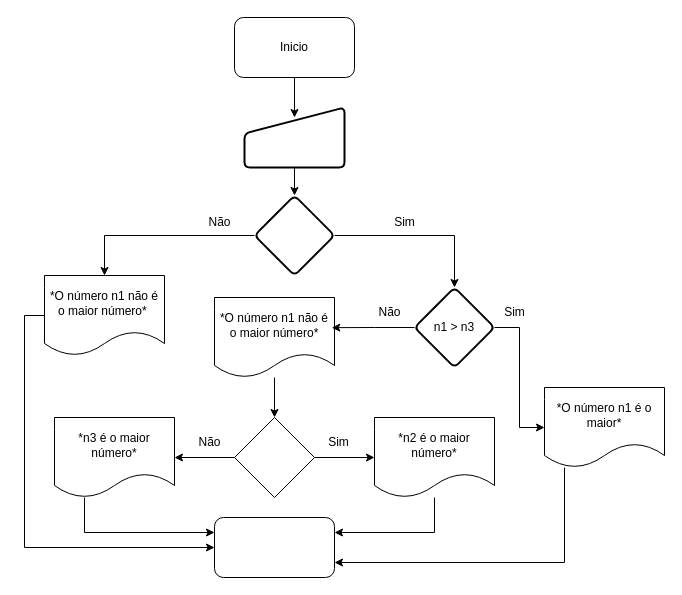
The diagram is 682 pixels wide and 595 high, and some of its shapes have lost their labels. Here are the shapes that lost their labels. From the top down, the centre of each, then its label:
At [294,137]: "n1, n2, n3".
At [294,235]: "n1 > n2".
At [274,457]: "n2 > n3".
